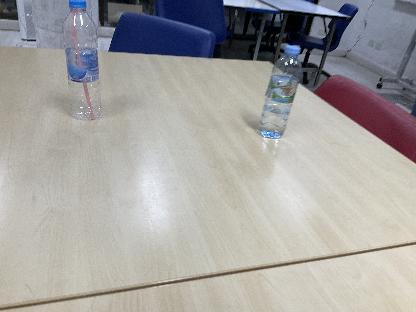Plastic Bottle: (62, 0, 102, 122), (258, 46, 302, 140)
